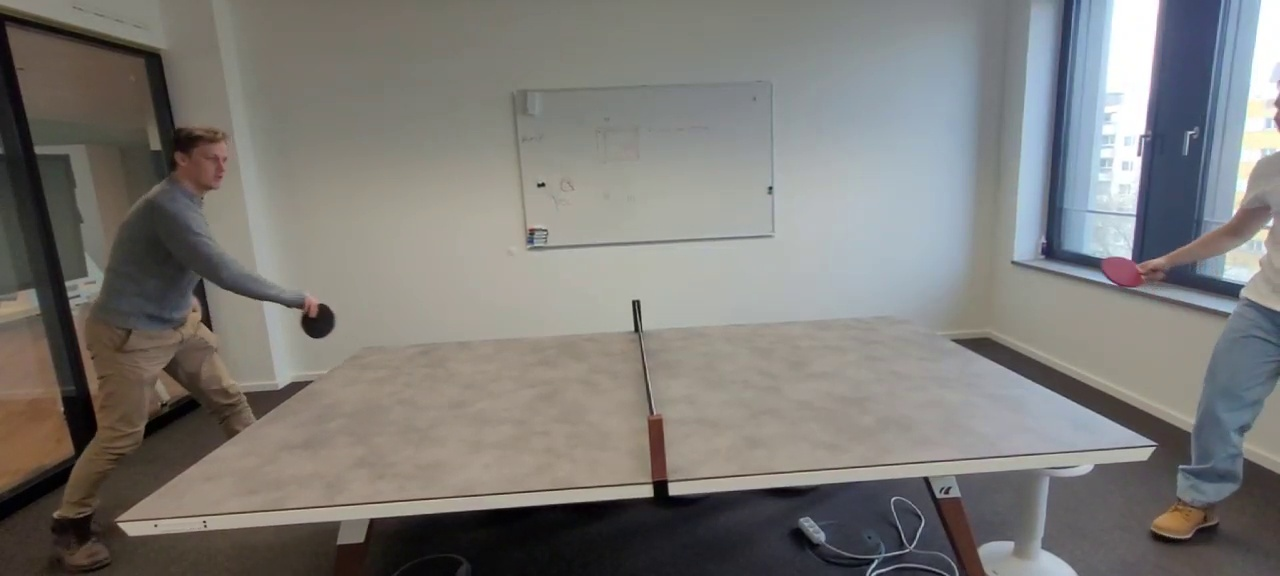1: (1100, 257, 1165, 287), (301, 303, 335, 339)
2: (507, 246, 517, 256)
ttplatte: (114, 315, 1158, 520)
